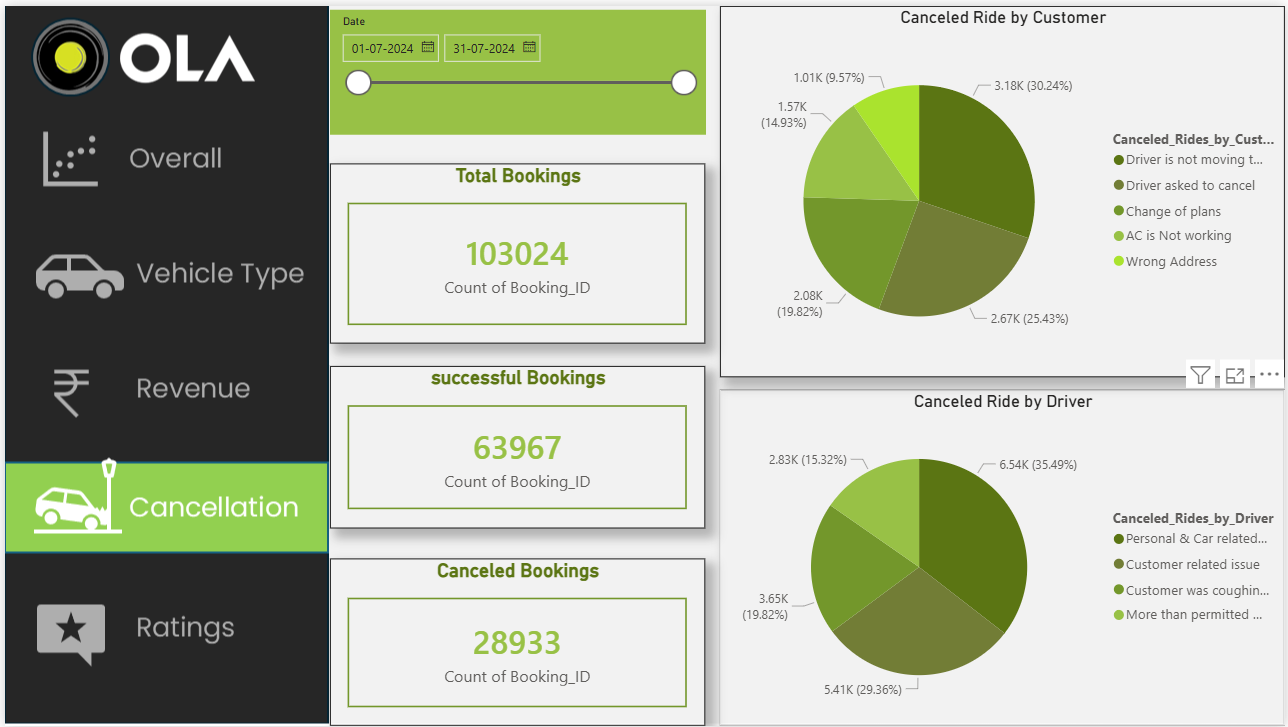

This screenshot's page, from the dashboard's own definition file:
{"tool":"powerbi","page":{"name":"Cancellation","canvas":[1280,720],"ordinal":3},"visuals":[{"type":"actionButton","box":[0,114.6,324.5,86.9],"z":0},{"type":"actionButton","box":[0,228,324.5,86.9],"z":1},{"type":"actionButton","box":[0,345,324.5,86.9],"z":2},{"type":"actionButton","box":[0,580.3,324.5,86.9],"z":3},{"type":"pieChart","title":"Canceled Ride by Customer","fields":{"Category":["Bookings.Canceled_Rides_by_Customer"],"Y":["CountNonNull(Bookings.Canceled_Rides_by_Customer)"]},"box":[715,0,565,371.2],"z":4},{"type":"pieChart","title":"Canceled Ride by Driver","fields":{"Category":["Bookings.Canceled_Rides_by_Driver"],"Y":["CountNonNull(Bookings.Canceled_Rides_by_Driver)"]},"box":[715,383.8,565,336.2],"z":5},{"type":"slicer","fields":{"Values":["Bookings.Date"]},"box":[325,3.8,375,125],"z":6},{"type":"cardVisual","title":"Total Bookings","fields":{"Data":["CountNonNull(Bookings.Booking_ID)"]},"box":[325,157.5,375,180],"z":7},{"type":"cardVisual","title":"successful Bookings","fields":{"Data":["CountNonNull(Bookings.Booking_ID)"]},"box":[325,360,375,162.5],"z":8},{"type":"cardVisual","title":"Canceled  Bookings","fields":{"Data":["CountNonNull(Bookings.Booking_ID)"]},"box":[325,552.5,375,167.5],"z":9}]}

Visuals, with their boxes in screenshot pixels (x1, y1, x2, y2), scaled from the page's 1280x720 canvas onto the 1288x727 screenshot:
actionButton: left=0, top=116, right=327, bottom=203
actionButton: left=0, top=230, right=327, bottom=318
actionButton: left=0, top=348, right=327, bottom=436
actionButton: left=0, top=586, right=327, bottom=674
"Canceled Ride by Customer" pieChart: left=719, top=0, right=1287, bottom=375
"Canceled Ride by Driver" pieChart: left=719, top=388, right=1287, bottom=726
slicer - Bookings.Date: left=327, top=4, right=704, bottom=130
"Total Bookings" cardVisual: left=327, top=159, right=704, bottom=341
"successful Bookings" cardVisual: left=327, top=364, right=704, bottom=528
"Canceled  Bookings" cardVisual: left=327, top=558, right=704, bottom=726
